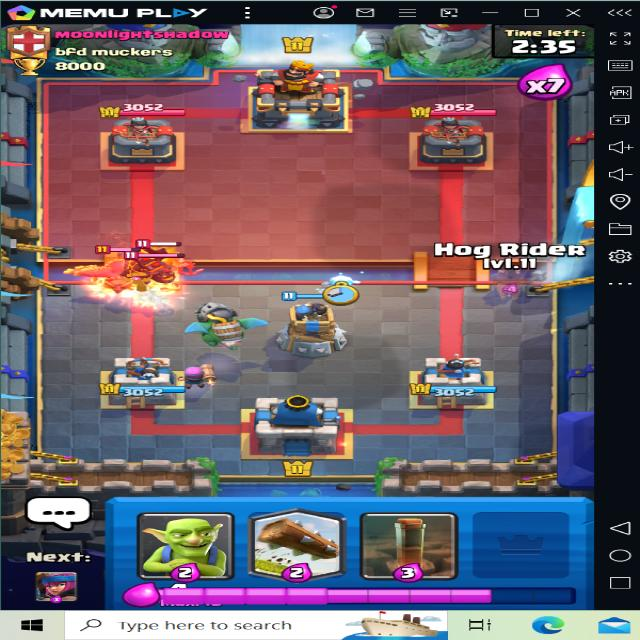Lavahound: (118, 244, 198, 287)
Pheonix: (70, 243, 169, 288)
